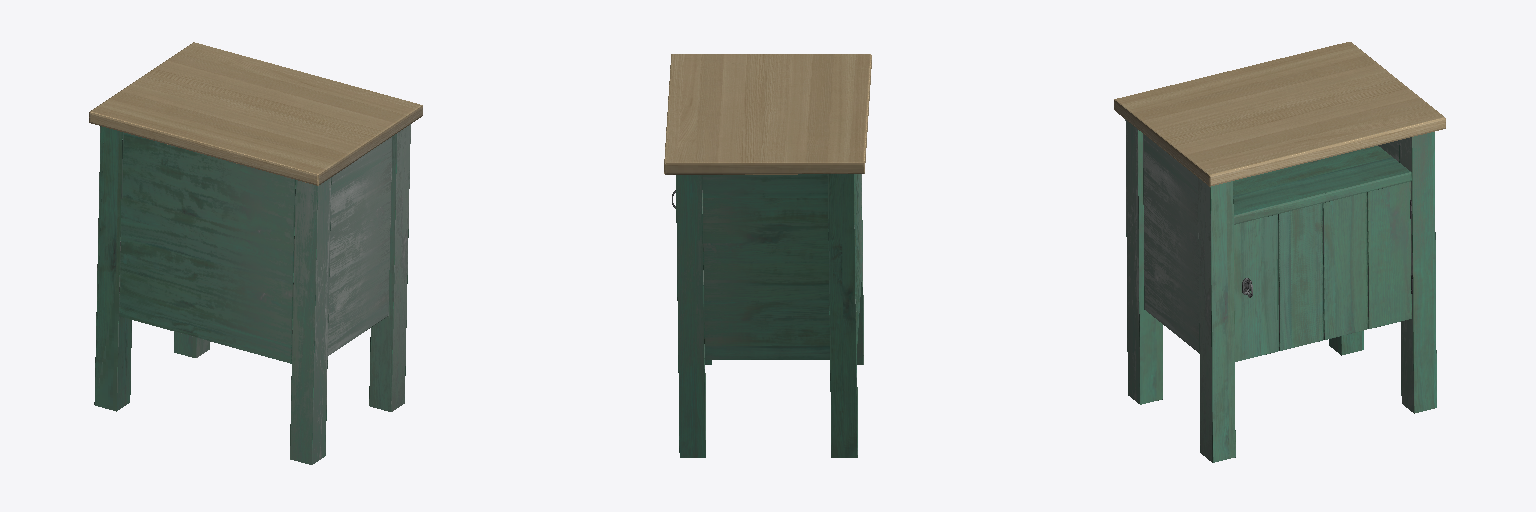
The picture shows the model from 3 angles: view 1: azimuth 30°, elevation 25°; view 2: azimuth 150°, elevation 25°; view 3: azimuth 270°, elevation 25°; orthographic projection.
Parts seen in each view (by area): view 1: solid_001, solid_003, solid_002; view 2: solid_003, solid_001, solid_002; view 3: solid_001, solid_003, solid_002.
Part boxes in pixels (left/top/right/bottom): solid_001: left=119, top=132, right=391, bottom=363; solid_003: left=89, top=42, right=422, bottom=185; solid_002: left=94, top=124, right=410, bottom=464; solid_003: left=664, top=54, right=871, bottom=174; solid_001: left=702, top=174, right=861, bottom=359; solid_002: left=676, top=174, right=863, bottom=457; solid_001: left=1143, top=134, right=1411, bottom=361; solid_003: left=1114, top=42, right=1445, bottom=186; solid_002: left=1125, top=119, right=1436, bottom=462.
Bounding box in the file's own units: 1.22 × 1.33 × 1.33.
1 materials, 1 textured.